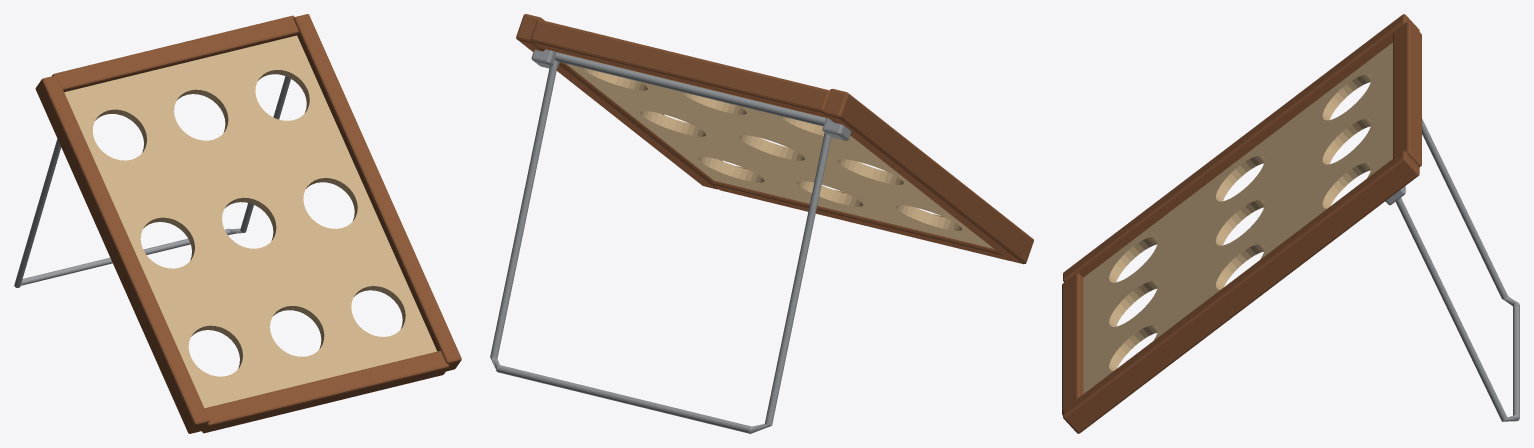
The model's file is full.glb.
The picture shows the model from 3 angles, left to right: view 1: azimuth 30°, elevation 25°; view 2: azimuth 150°, elevation 25°; view 3: azimuth 270°, elevation 25°; orthographic projection. The views are drawn at different scales.
Visible parts, largest first — view 1: Single face with nine real through holes, Long raised side rail -1, Long raised side rail 1, Cross end rail -1, Cross end rail 1, Bent rear support loop; view 2: Single face with nine real through holes, Cross end rail 1, Long raised side rail -1, Bent rear support loop, Long raised side rail 1, Cross end rail -1, Captive transverse pivot; view 3: Single face with nine real through holes, Long raised side rail 1, Long raised side rail -1, Bent rear support loop, Cross end rail 1, Cross end rail -1.
Part boxes in pixels (x1,y1,x2,y2): Single face with nine real through holes: (64, 35, 437, 408); Long raised side rail -1: (35, 75, 209, 433); Long raised side rail 1: (293, 14, 461, 371); Cross end rail -1: (202, 351, 449, 433); Cross end rail 1: (52, 15, 298, 92); Bent rear support loop: (14, 76, 290, 287); Single face with nine real through holes: (556, 52, 993, 248); Cross end rail 1: (530, 19, 830, 117); Long raised side rail -1: (823, 89, 1033, 264); Bent rear support loop: (490, 59, 831, 433); Long raised side rail 1: (516, 14, 722, 189); Cross end rail -1: (712, 166, 1009, 260); Captive transverse pivot: (554, 52, 825, 126); Single face with nine real through holes: (1083, 42, 1392, 393); Long raised side rail 1: (1063, 151, 1419, 433); Long raised side rail -1: (1063, 14, 1419, 282); Bent rear support loop: (1396, 118, 1519, 421); Cross end rail 1: (1393, 21, 1421, 166); Cross end rail -1: (1062, 273, 1083, 415).
Bounding box in the file's own units: 0.592 × 0.5303 × 0.7887.
